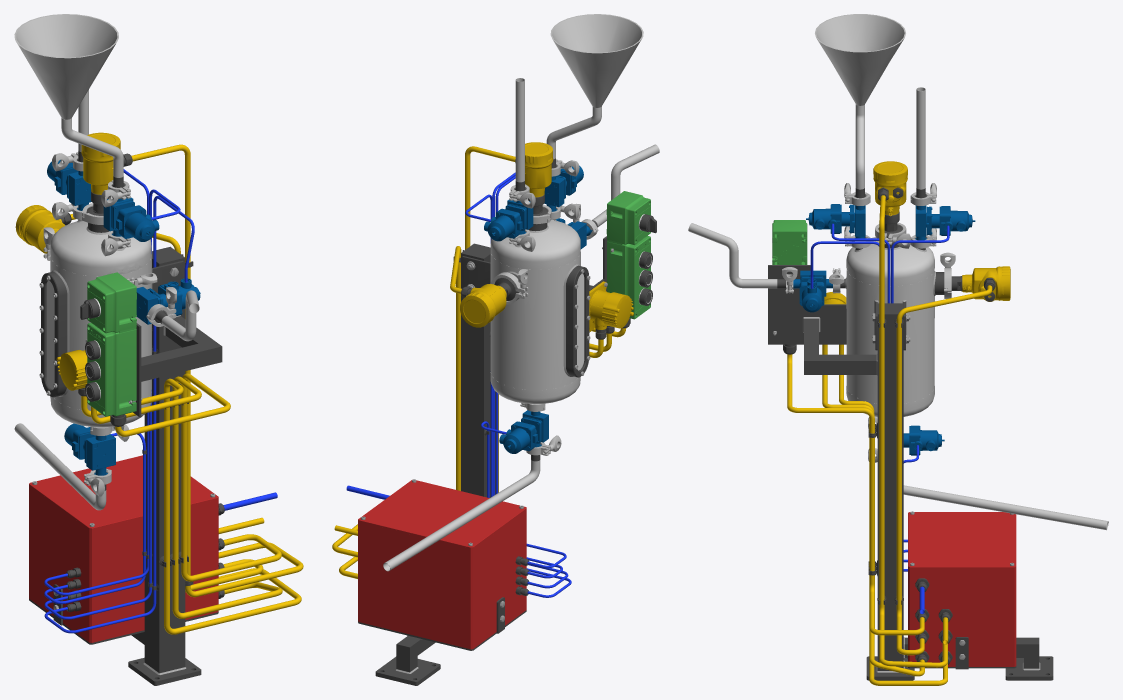
File: Rückführung-Butylacetat.glb
3 views of the same model, side by side, from view 1: azimuth 30°, elevation 25°; view 2: azimuth 150°, elevation 25°; view 3: azimuth 270°, elevation 25° (orthographic). The views are drawn at different scales.
Parts seen in each view (by area): view 1: VERTEILERKASTEN-SELBER, STANGENKONSOLE, TRICHTER, VERTEILERKASTENDECKEL, KLPPERBODEN-OBEN0, BEFEHLSGEBERKABEL0006, VEGADISKABEL20006, VEGADISKABEL10008, VEGAFLEXKABEL0006, ZYLINDERMANTEL, 80_409_03_05_6_80_409_03_05_6_S, BYPASSROHR0008 (+32 smaller); view 2: VERTEILERKASTEN-SELBER, ZYLINDERMANTEL, VERTEILERKASTENDECKEL, STANGENKONSOLE, TRICHTER, KLPPERBODEN-OBEN0, ABFLUSSROHR0003, VEGADIS-82_ASM, SWING61_CACAPX8ZXV_AT289205618__ASM, FX83_ACFLAEHX8MXM_AT289205715_2_ASM, 80_409_03_05_6_80_409_03_05_6_S, VEGASWINGKABEL0006 (+22 smaller); view 3: VERTEILERKASTEN-SELBER, ZYLINDERMANTEL, STANGENKONSOLE, VERTEILERKASTENDECKEL, TRICHTER, DISPLAYGRUNDPLATTE, VEGAFLEXKABEL0006, KLPPERBODEN-OBEN0, VEGASWINGKABEL0006, BEFEHLSGEBERKABEL0006, ABFLUSSROHR0003, FX83_ACFLAEHX8MXM_AT289205715_2_ASM (+13 smaller).
Boxes of the visible parts, x1,y1,x2,y2 form: VERTEILERKASTEN-SELBER: (29, 486, 218, 642); STANGENKONSOLE: (144, 246, 185, 673); TRICHTER: (14, 14, 118, 119); VERTEILERKASTENDECKEL: (29, 455, 218, 529); KLPPERBODEN-OBEN0: (50, 221, 151, 276); BEFEHLSGEBERKABEL0006: (115, 373, 281, 581); VEGADISKABEL20006: (91, 376, 282, 618); VEGADISKABEL10008: (81, 378, 301, 634); VEGAFLEXKABEL0006: (131, 144, 303, 597); ZYLINDERMANTEL: (50, 254, 151, 410); 80_409_03_05_6_80_409_03_05_6_S: (87, 323, 119, 416); BYPASSROHR0008: (44, 195, 194, 633); VERTEILERKASTEN-SELBER: (358, 510, 526, 649); ZYLINDERMANTEL: (490, 251, 580, 390); VERTEILERKASTENDECKEL: (358, 480, 526, 548); STANGENKONSOLE: (461, 243, 495, 497); TRICHTER: (550, 14, 643, 107); KLPPERBODEN-OBEN0: (490, 221, 580, 269); ABFLUSSROHR0003: (383, 460, 540, 571); VEGADIS-82_ASM: (589, 281, 633, 339); SWING61_CACAPX8ZXV_AT289205618__ASM: (460, 278, 518, 327); FX83_ACFLAEHX8MXM_AT289205715_2_ASM: (515, 142, 553, 215); 80_409_03_05_6_80_409_03_05_6_S: (622, 236, 650, 319); VEGASWINGKABEL0006: (450, 246, 461, 490); VERTEILERKASTEN-SELBER: (908, 568, 1016, 666); ZYLINDERMANTEL: (846, 269, 934, 403); STANGENKONSOLE: (877, 303, 903, 670); VERTEILERKASTENDECKEL: (908, 512, 1016, 568); TRICHTER: (815, 14, 905, 105); DISPLAYGRUNDPLATTE: (768, 265, 846, 344); VEGAFLEXKABEL0006: (879, 195, 947, 667); KLPPERBODEN-OBEN0: (846, 237, 934, 286); VEGASWINGKABEL0006: (896, 285, 992, 655); BEFEHLSGEBERKABEL0006: (787, 354, 924, 635); ABFLUSSROHR0003: (903, 485, 1108, 530); FX83_ACFLAEHX8MXM_AT289205715_2_ASM: (873, 161, 907, 237).
Size of the model in its own units: 0.6899 by 1.5 by 0.9686.
